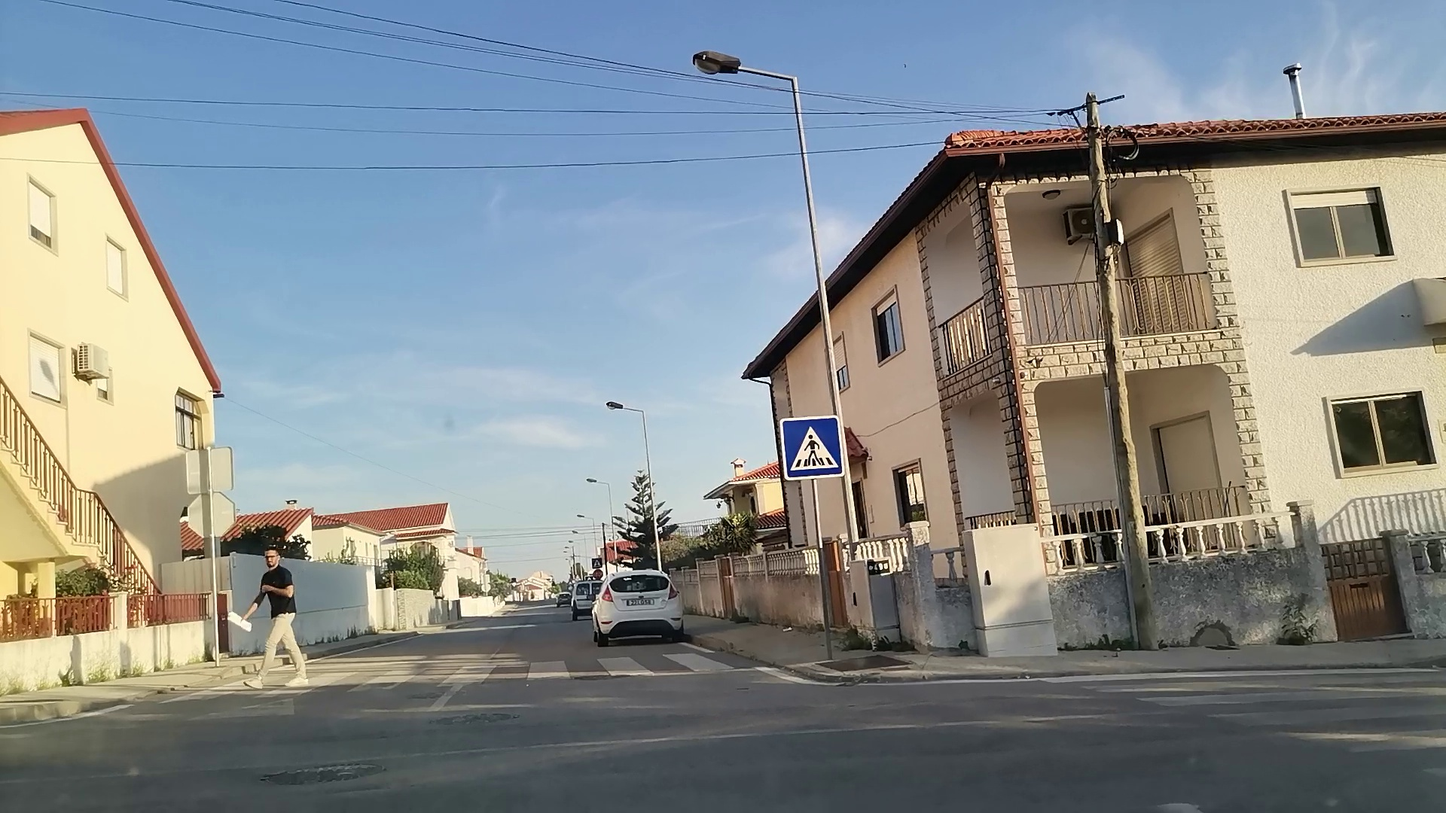Stairs: (1083, 665, 1446, 806), (191, 650, 737, 691)
